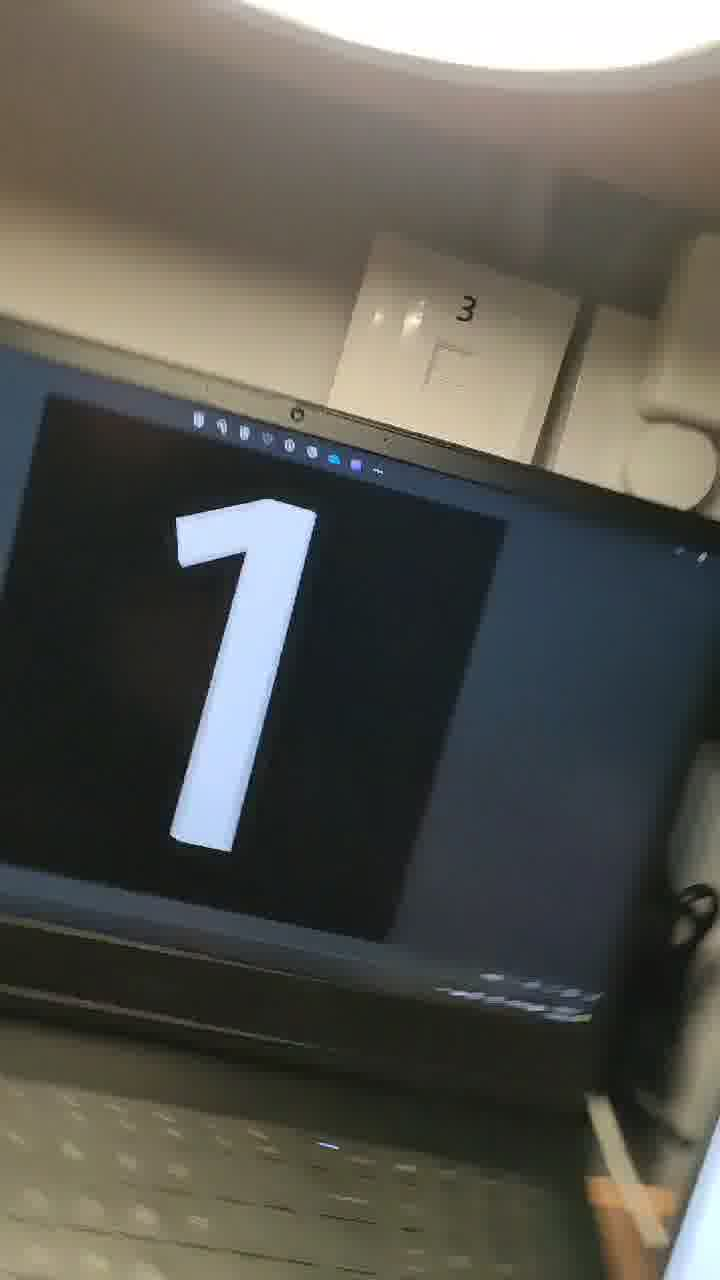one: (104, 442, 366, 865)
